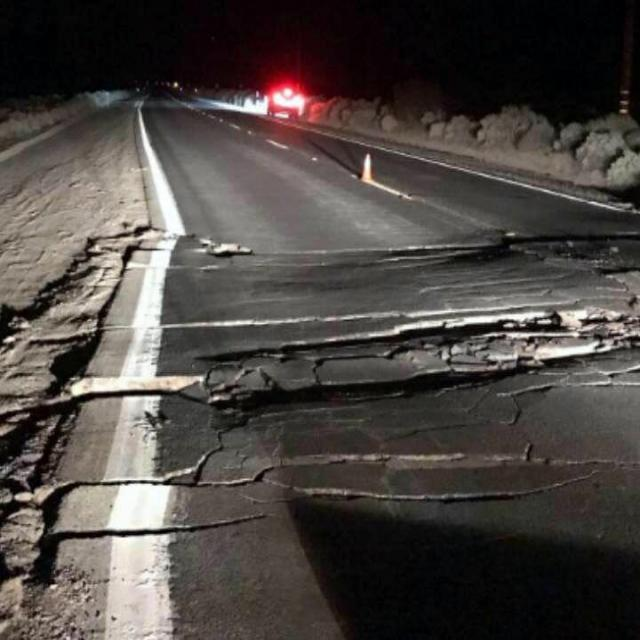Pothole: (84, 221, 620, 535)
